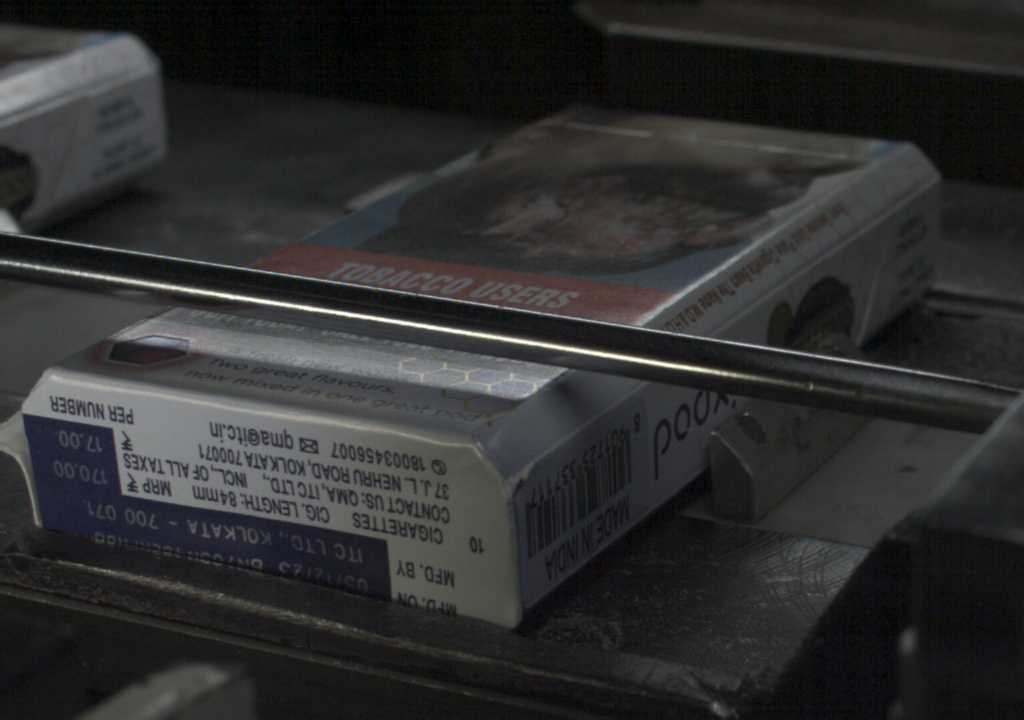g_bottom: (21, 369, 517, 628)
g_label: (43, 491, 410, 604)
g_lmiter: (709, 265, 804, 336), (810, 202, 895, 266), (554, 387, 640, 447)
g_miter: (903, 175, 941, 201)
ng_lmiter: (1, 369, 34, 527), (504, 454, 545, 491)
price: (37, 419, 132, 488)
